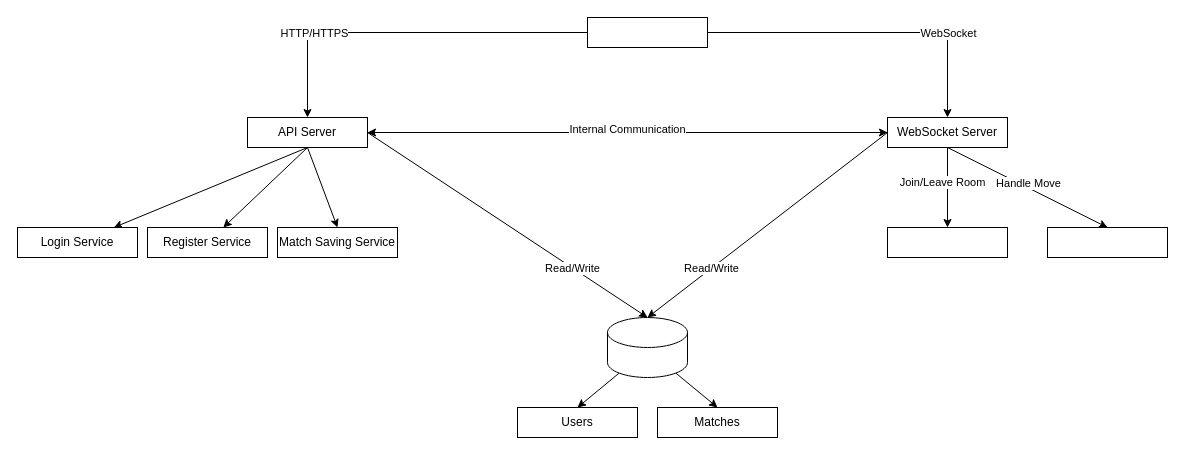
The diagram is 1185 pixels wide and 455 high, and some of its shapes have lost their labels. The centre of each missing label's shape, as x and y in pixels:
"Database" belongs at [647,347].
"Game Logic" belongs at [1107,242].
"Room Manager" belongs at [947,242].
"Web Client" belongs at [647,32].
